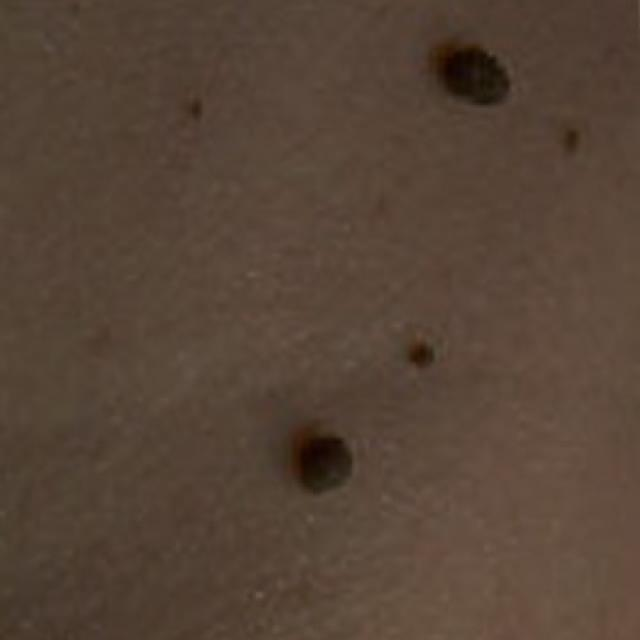wart: (254, 400, 375, 519), (426, 34, 540, 126), (386, 318, 462, 391)
